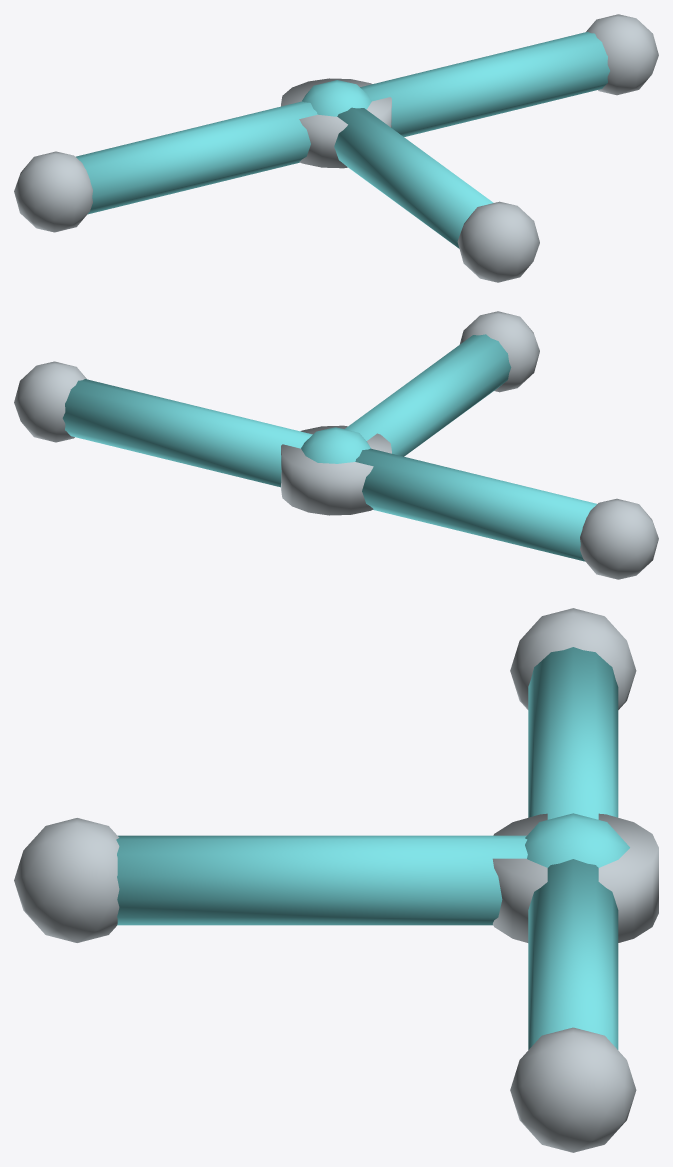
Rendered from conduit_tee_standard.glb.
The picture shows the model from 3 angles, top to bottom: view 1: azimuth 30°, elevation 25°; view 2: azimuth 150°, elevation 25°; view 3: azimuth 270°, elevation 25°; orthographic projection. The views are drawn at different scales.
Visible parts, largest first — view 1: Conduit_cyan, Coupler_steel, JunctionCap_steel, Junction_cyan; view 2: Conduit_cyan, Coupler_steel, JunctionCap_steel, Junction_cyan; view 3: Conduit_cyan, Coupler_steel, JunctionCap_steel, Junction_cyan.
Part boxes in pixels (bbox=[...]): Conduit_cyan: bbox=[76, 31, 609, 248]; Coupler_steel: bbox=[14, 14, 658, 282]; JunctionCap_steel: bbox=[281, 78, 391, 168]; Junction_cyan: bbox=[302, 80, 371, 116]; Conduit_cyan: bbox=[62, 334, 596, 561]; Coupler_steel: bbox=[14, 311, 658, 579]; JunctionCap_steel: bbox=[281, 425, 391, 515]; Junction_cyan: bbox=[301, 427, 370, 463]; Conduit_cyan: bbox=[116, 647, 618, 1049]; Coupler_steel: bbox=[14, 608, 636, 1152]; JunctionCap_steel: bbox=[492, 813, 658, 942]; Junction_cyan: bbox=[525, 813, 629, 867].
Size of the model in its own units: 2.48 by 0.3 by 1.43.
